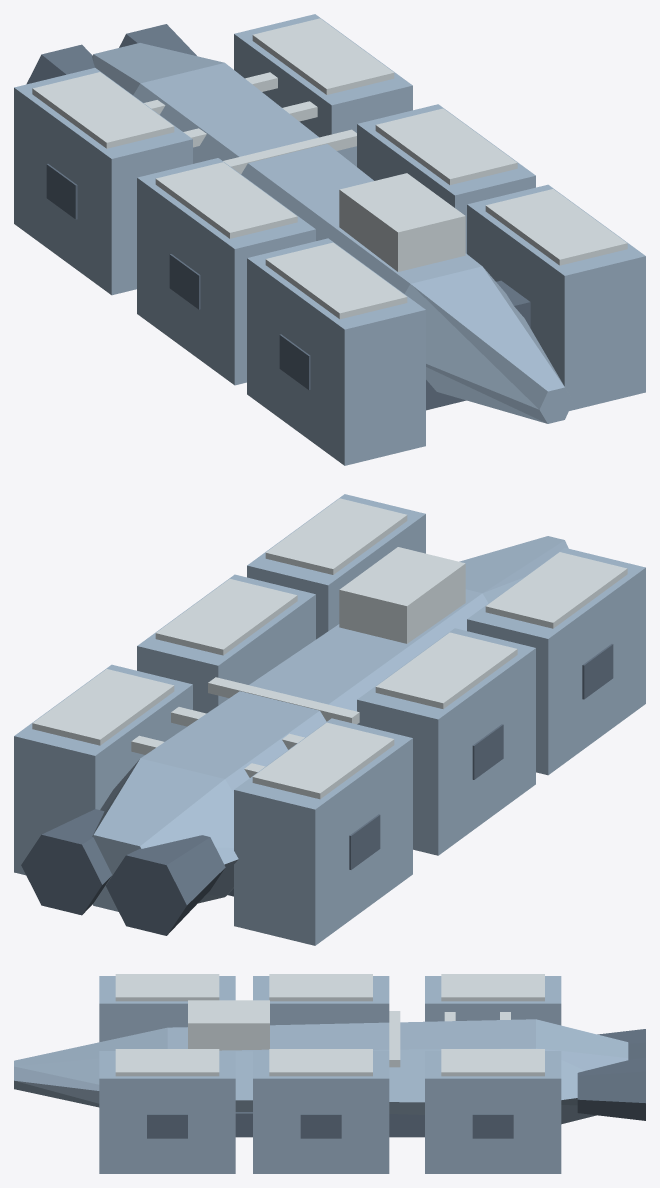
The picture shows the model from 3 angles, top to bottom: view 1: azimuth 30°, elevation 25°; view 2: azimuth 150°, elevation 25°; view 3: azimuth 270°, elevation 25°; orthographic projection. The views are drawn at different scales.
Size of the model in its own units: 3.82 by 1.9 by 9.82.
